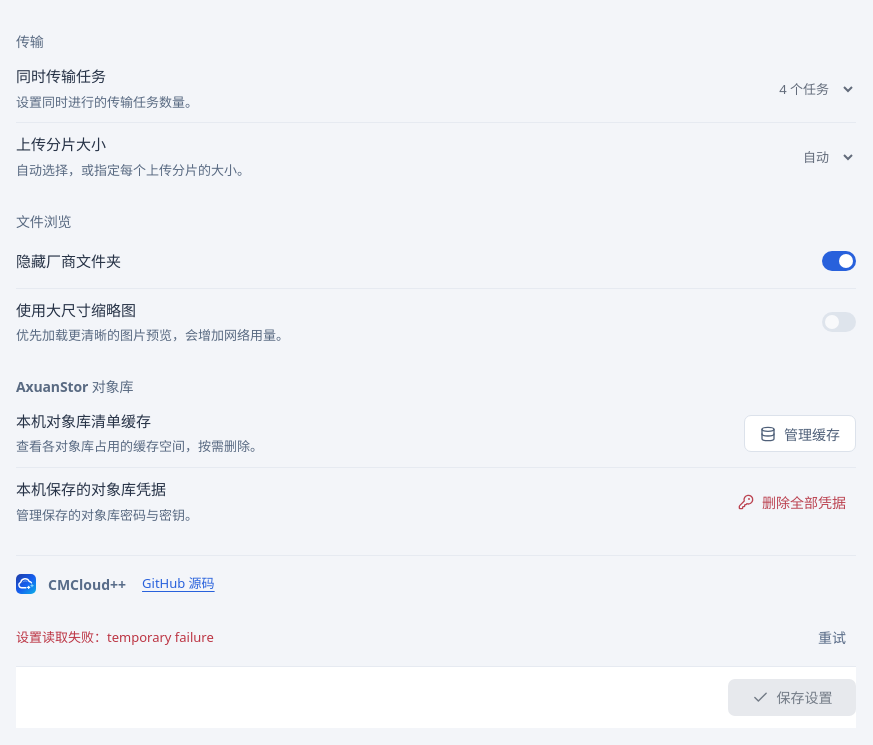
it: allows retry after reading settings fails instead of leaving saving permanently disabled
The image size is (873, 745).
(page scrolled)
Expected: the message "设置读取失败：temporary failure 重试" is shown, x1=16 y1=620 x2=856 y2=654
Expected: the button "保存设置" is disabled, x1=728 y1=679 x2=856 y2=716
Step 1. Click the button "重试" → point(832, 637), box x1=808 y1=620 x2=856 y2=654
(page scrolled)
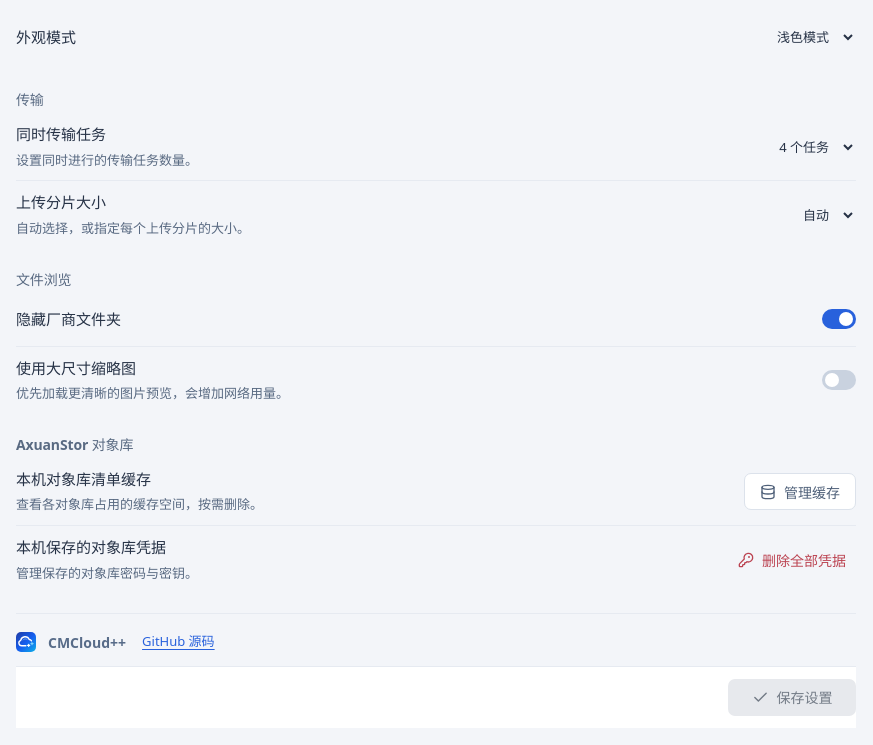
Expected: the button "保存设置" is disabled, x1=728 y1=679 x2=856 y2=716
Expected: the dropdown named "同时传输任务数" is enabled, x1=750 y1=125 x2=856 y2=169
Expected: the message "设置读取失败：temporary failure 重试" is gone
